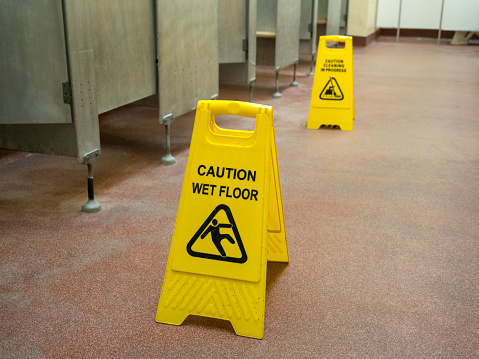wet caution sign: (146, 99, 290, 339), (298, 27, 364, 135)
